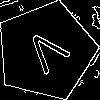V: (21, 26, 78, 83)
